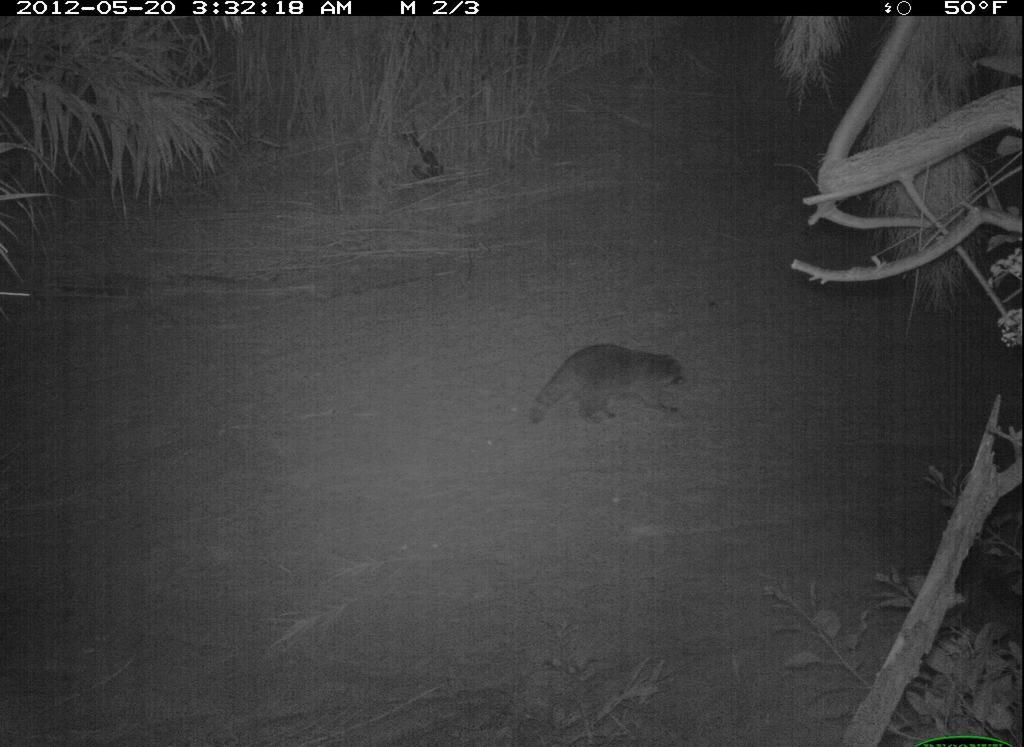raccoon: (513, 335, 706, 443)
